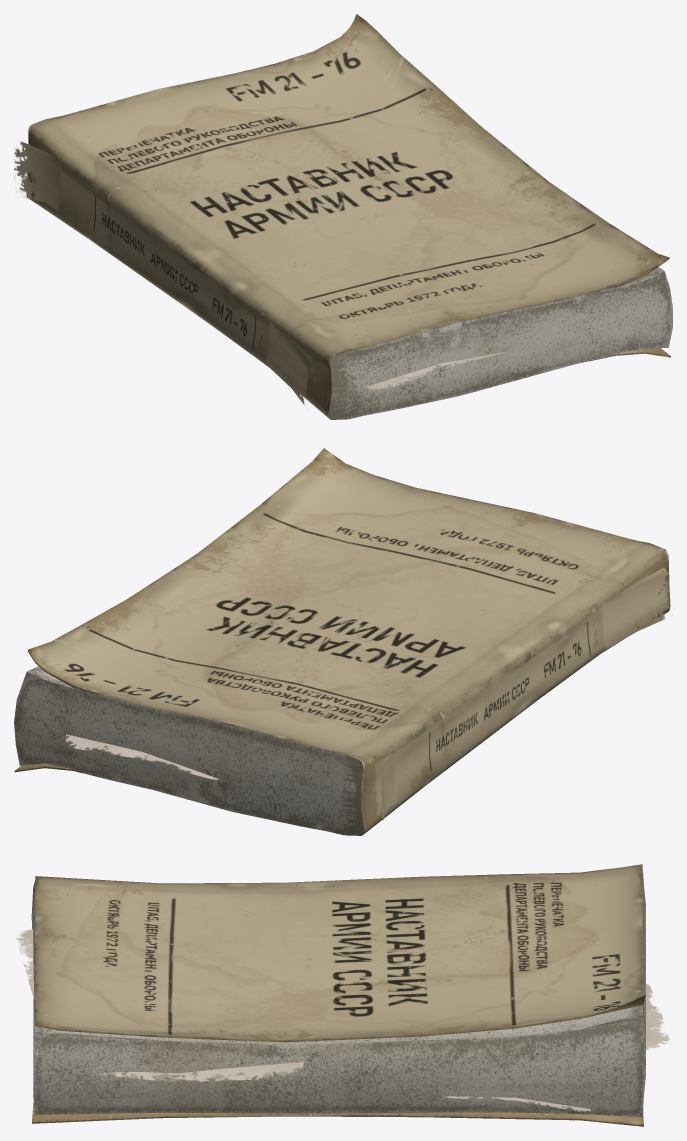
The model's file is soviet_army_manual.glb.
3 views of the same model, one above another, from view 1: azimuth 30°, elevation 25°; view 2: azimuth 150°, elevation 25°; view 3: azimuth 270°, elevation 25° (orthographic).
Parts seen in each view (by area): view 1: Army_Manual; view 2: Army_Manual; view 3: Army_Manual.
Boxes of the visible parts, box(x1,y1,x2,y2) form: Army_Manual: box(14, 14, 672, 419); Army_Manual: box(14, 448, 672, 835); Army_Manual: box(16, 864, 670, 1126).
Size of the model in its own units: 3.66 by 1.13 by 5.4.
Materials: 1 (1 with a texture image).
